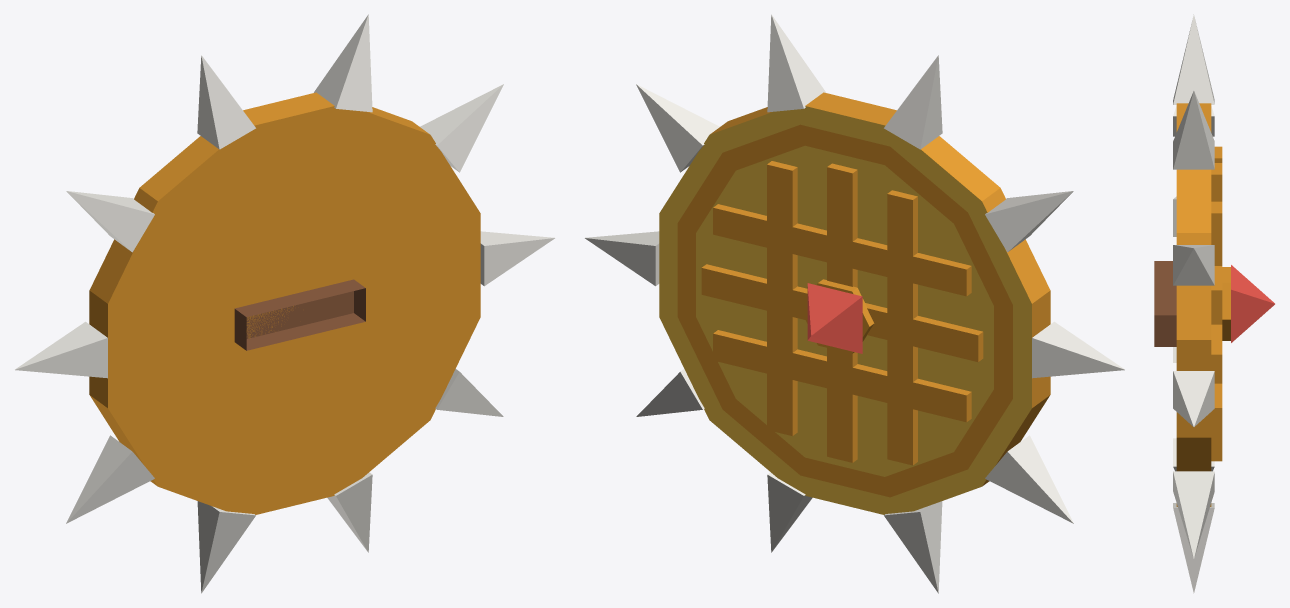
The model's file is FX_Shield4_Gold.fbx.
3 views of the same model, side by side, from view 1: azimuth 30°, elevation 25°; view 2: azimuth 150°, elevation 25°; view 3: azimuth 270°, elevation 25° (orthographic). The views are drawn at different scales.
Parts seen in each view (by area): view 1: FX_Shield4_Gold; view 2: FX_Shield4_Gold; view 3: FX_Shield4_Gold.
Boxes of the visible parts, x1,y1,x2,y2 form: FX_Shield4_Gold: [15, 14, 554, 593]; FX_Shield4_Gold: [585, 14, 1124, 593]; FX_Shield4_Gold: [1154, 14, 1274, 593].
Size of the model in its own units: 1.18 by 1.12 by 0.245.
